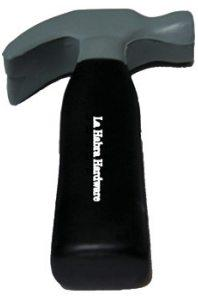hammer: (1, 7, 195, 290)
